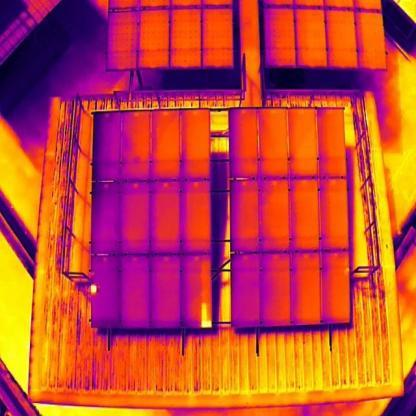anomaly: (199, 302, 215, 330), (86, 283, 100, 294)
